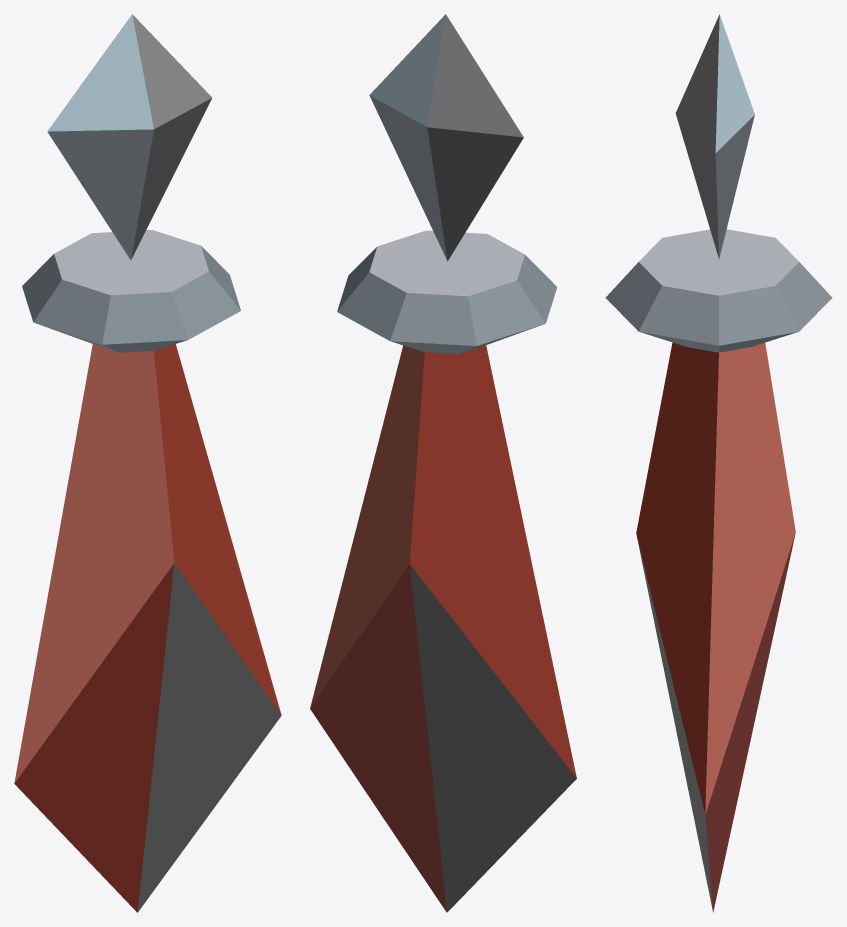
File: Item_Earring_05.fbx
3 views of the same model, side by side, from view 1: azimuth 30°, elevation 25°; view 2: azimuth 150°, elevation 25°; view 3: azimuth 270°, elevation 25° (orthographic).
Visible parts, largest first — view 1: SM_Item_Earring_05; view 2: SM_Item_Earring_05; view 3: SM_Item_Earring_05.
Boxes of the visible parts, left/top/right/bottom form: SM_Item_Earring_05: left=14, top=14, right=281, bottom=912; SM_Item_Earring_05: left=310, top=14, right=576, bottom=912; SM_Item_Earring_05: left=605, top=14, right=832, bottom=912.
Size of the model in its own units: 271 by 872 by 200.
